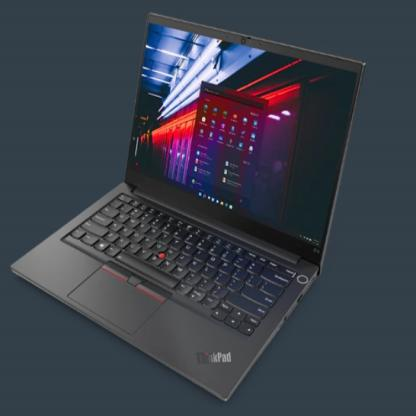NOTEBOOK: (2, 11, 416, 415)
